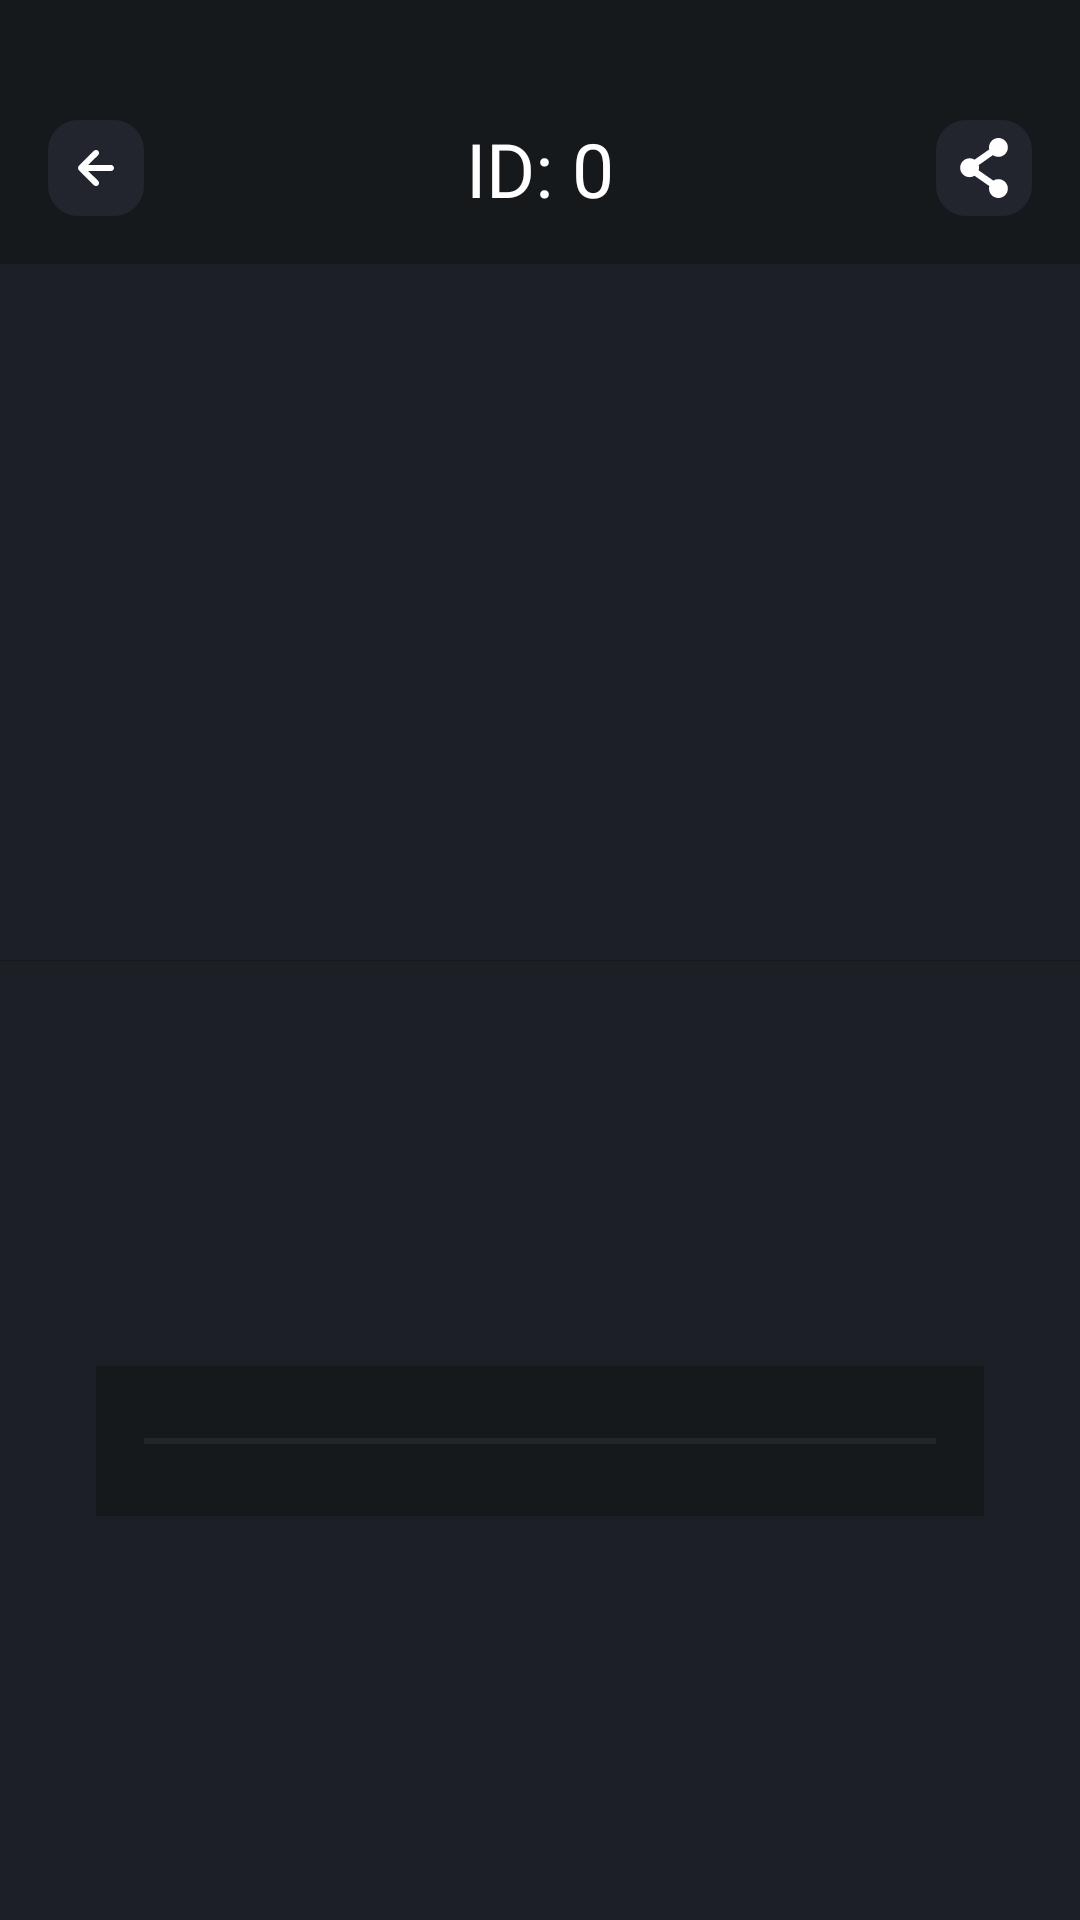

Locate icon controls on the screen. Image size 1080*1920, boxes as [left=x1, top=y1, right=x2, bottom=y2].
arrow back: [left=48, top=120, right=144, bottom=216]
share toolbar: [left=936, top=120, right=1032, bottom=216]
